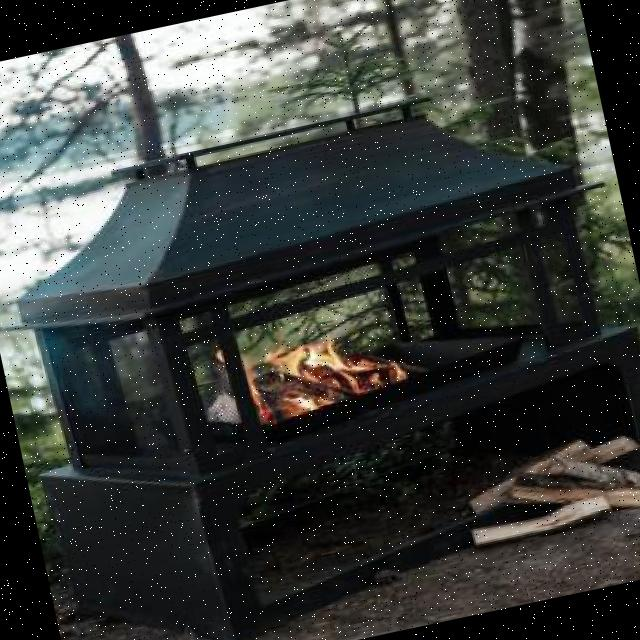fire: (212, 300, 410, 424)
